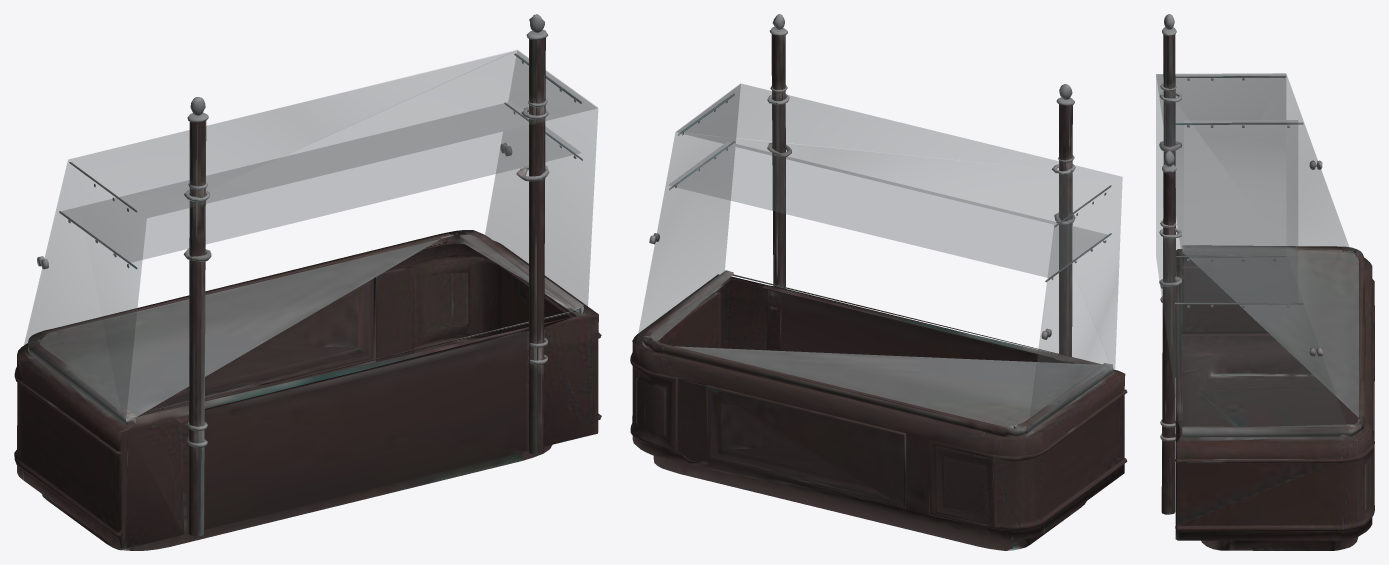
File: mall-glass-display-counter.glb
3 renders of one model, left to right at view 1: azimuth 30°, elevation 25°; view 2: azimuth 150°, elevation 25°; view 3: azimuth 270°, elevation 25°, orthographic. The views are drawn at different scales.
Visible parts, largest first — view 1: glass-display-counter, glass; view 2: glass-display-counter, glass; view 3: glass-display-counter, glass.
Boxes of the visible parts, x1,y1,x2,y2 form: glass-display-counter: (14, 14, 601, 550); glass: (22, 50, 597, 426); glass-display-counter: (630, 14, 1127, 550); glass: (637, 83, 1122, 436); glass-display-counter: (1159, 14, 1374, 550); glass: (1156, 73, 1351, 439).
Size of the model in its own units: 1.5 by 1.35 by 0.7055.
Materials: 2 (1 with a texture image).
